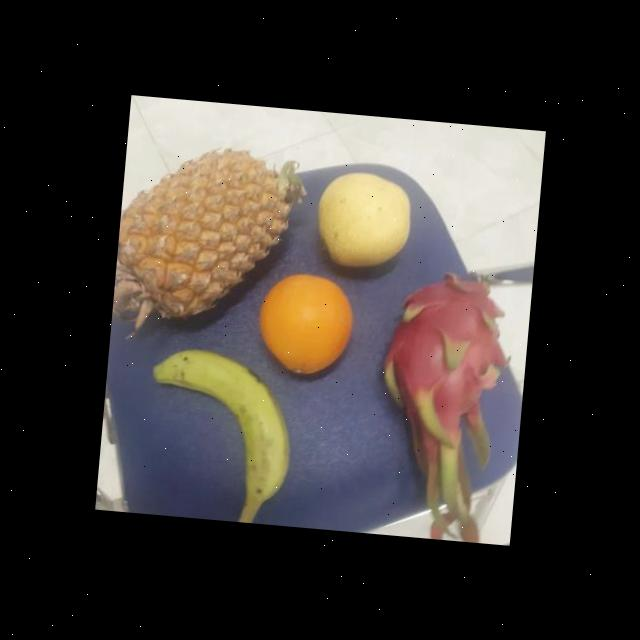banana: (142, 342, 302, 496)
guava: (255, 271, 358, 379)
orange: (254, 270, 359, 378)
pear: (311, 168, 418, 272)
pineapple: (111, 137, 302, 328)
pitaya: (380, 268, 516, 442)
